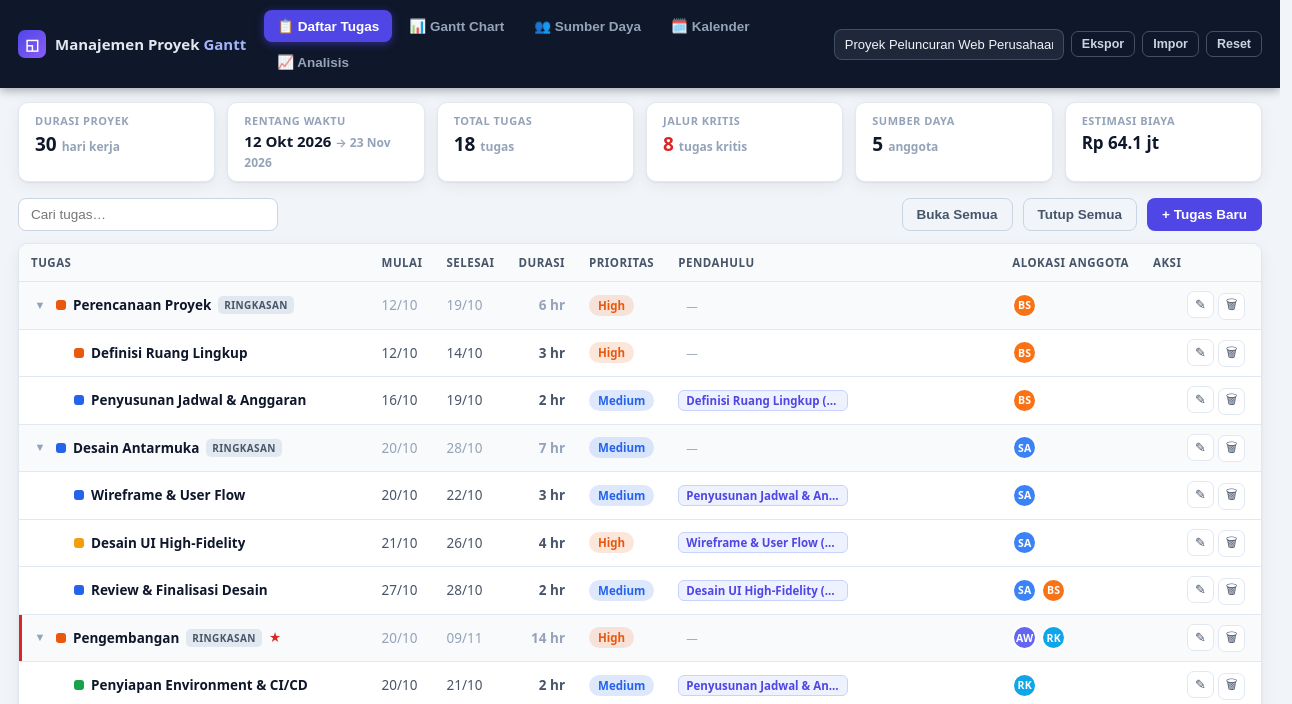
Scenario: App (smoke) › tab Gantt menampilkan bar tugas dan panah dependensi
Click the button "📊 Gantt Chart": (457, 26) [396,10,517,42]
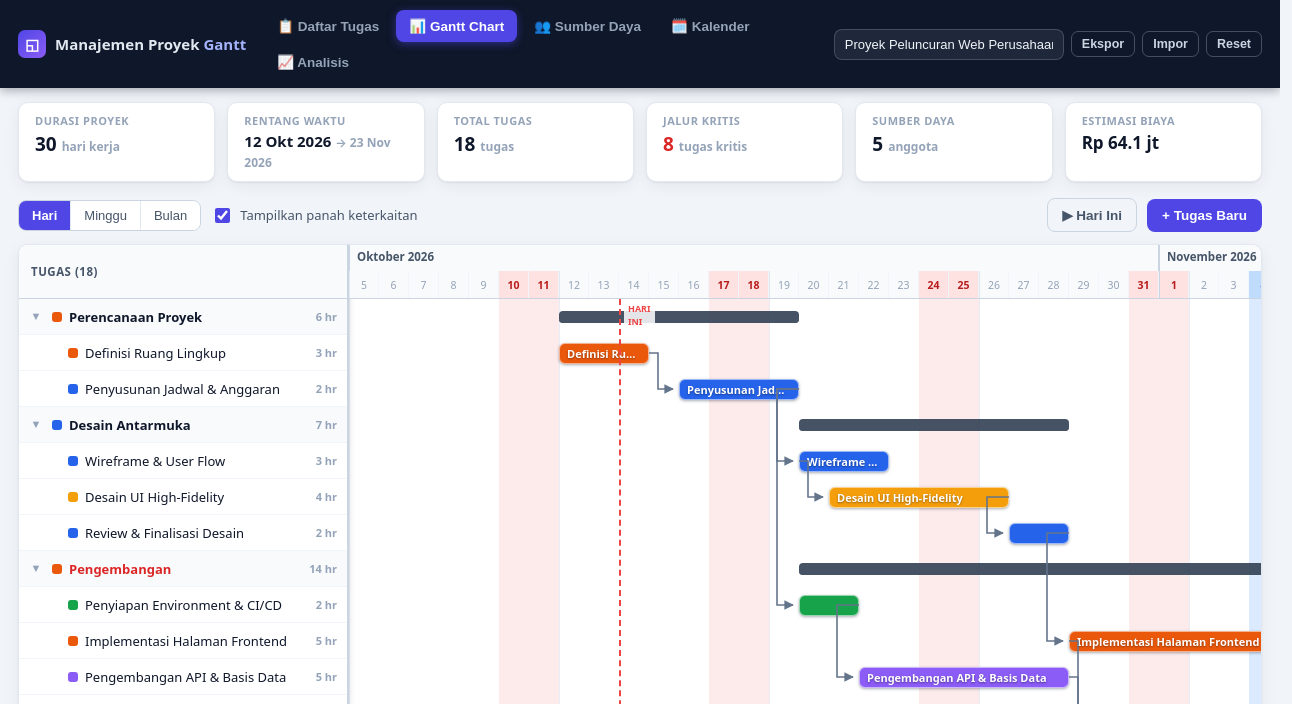
Result: the text "Tugas (18)" is shown at [19,245,347,299]
Result: the 2nd element with class "summary" is shown at [559,311,799,323]
Result: the 1st button with class "handle" is shown at [560,344,569,363]
